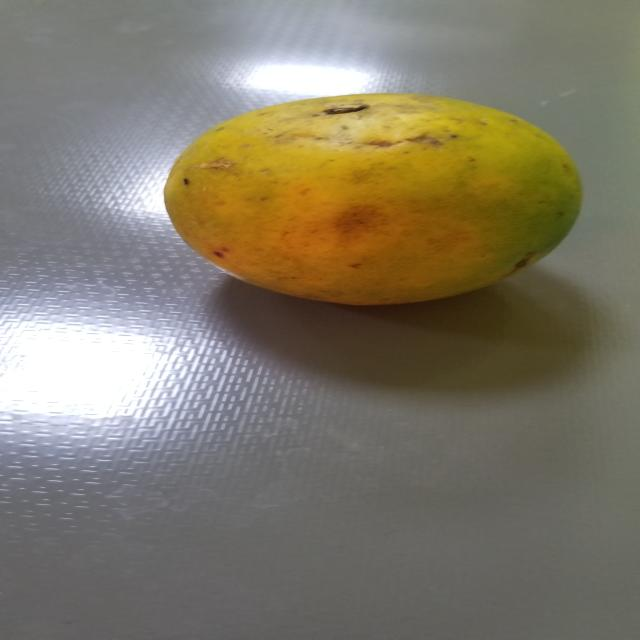Ripe orange: (130, 81, 614, 309)
